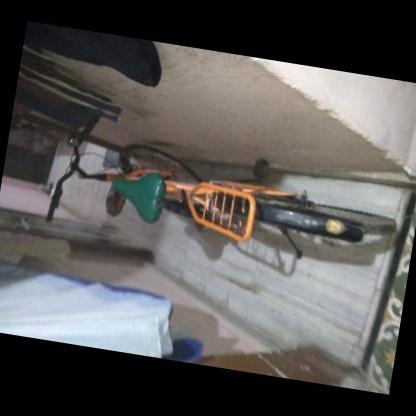Bicycle: (36, 87, 407, 275)
